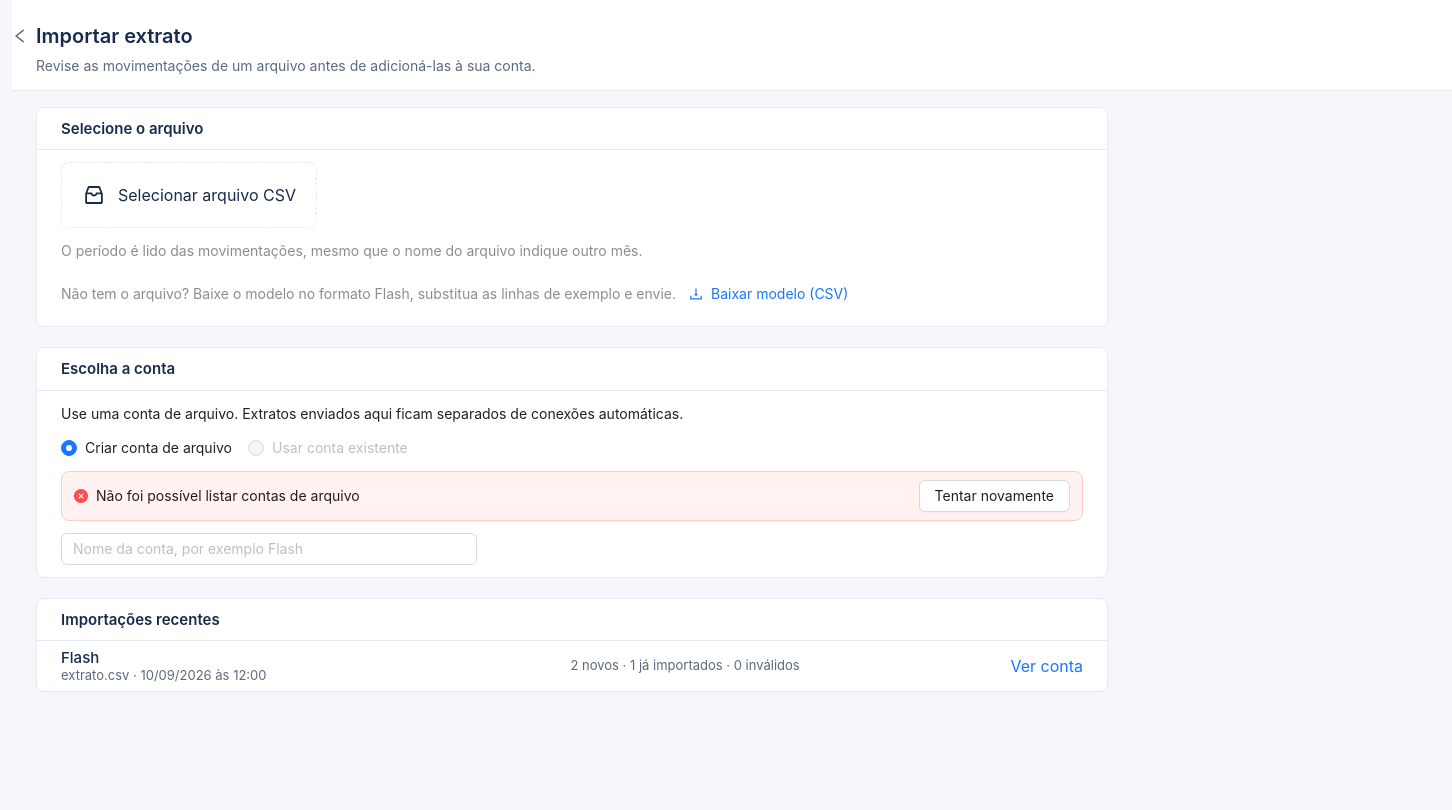
Test: StatementImportPage › list failures › shows the account list as unavailable, with a retry, while the history still loads
Expected: the text "Não foi possível listar contas de arquivo" is shown, [96,487,360,504]
Expected: the radio button labelled "Usar conta existente" is disabled, [248,437,416,459]
Click the button "Tentar novamente": [994, 496] box [918,480,1070,512]
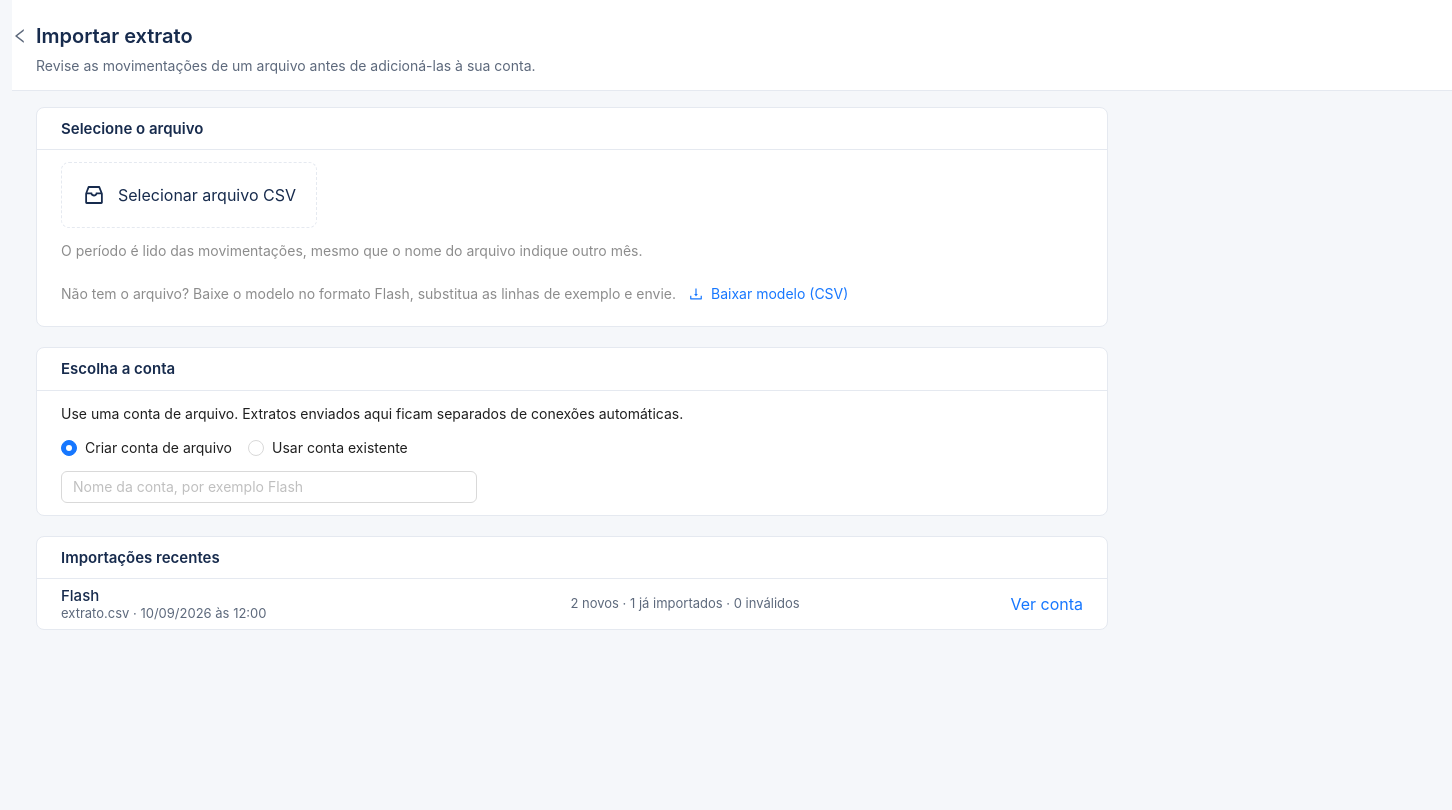
Expected: the text "Não foi possível listar contas de arquivo" is gone
Expected: the radio button labelled "Usar conta existente" is enabled, [248,437,416,459]
